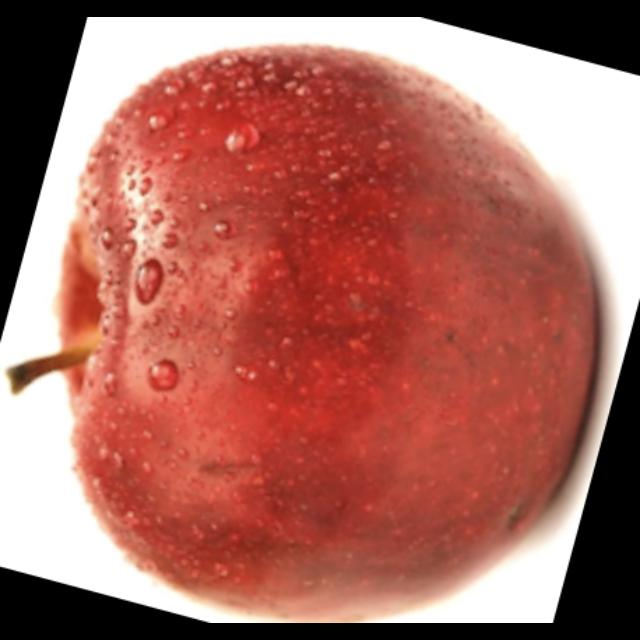Apel Segar: (55, 46, 600, 624)
